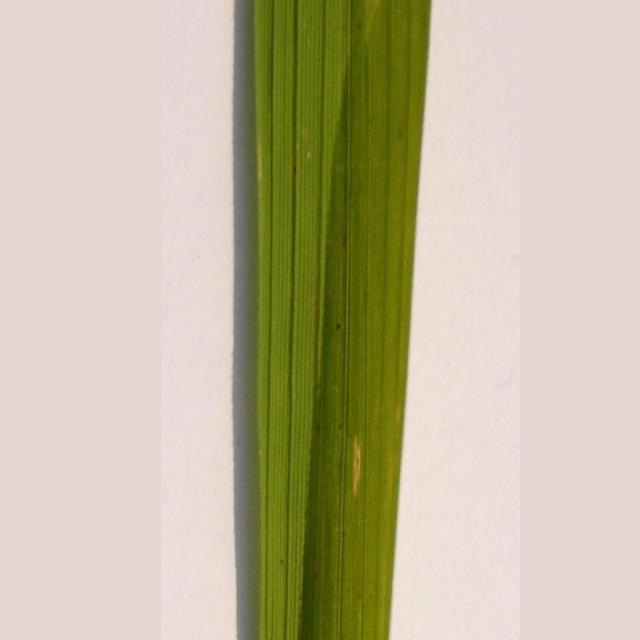leaf blight: (338, 427, 397, 514)
